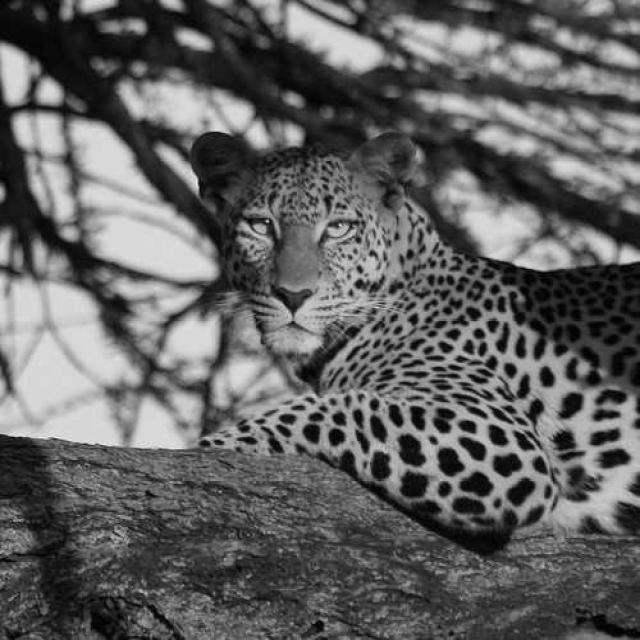Leopard: (170, 93, 541, 529)
